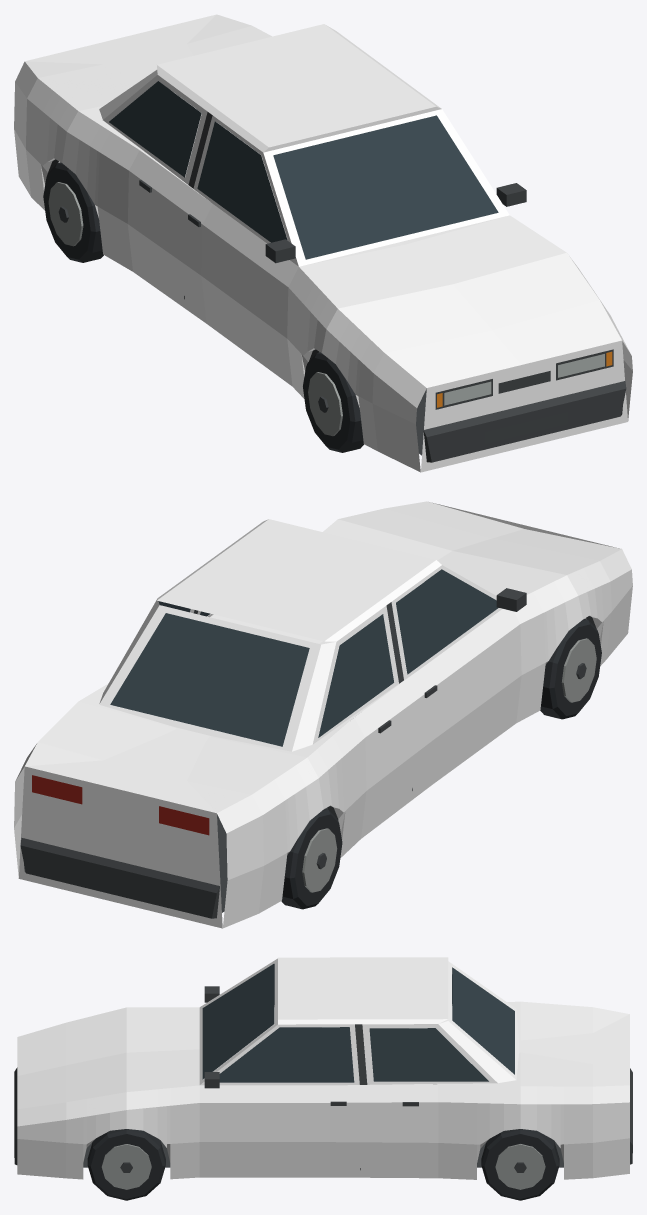
The model's file is kanaya_kazane_s.glb.
3 renders of one model, top to bottom at view 1: azimuth 30°, elevation 25°; view 2: azimuth 150°, elevation 25°; view 3: azimuth 270°, elevation 25°, orthographic. The views are drawn at different scales.
Parts seen in each view (by area): view 1: kanaya_kazane_s; view 2: kanaya_kazane_s; view 3: kanaya_kazane_s.
Part boxes in pixels (x1,y1,x2,y2): kanaya_kazane_s: (14, 14, 632, 472); kanaya_kazane_s: (14, 501, 632, 928); kanaya_kazane_s: (14, 957, 632, 1200).
Bounding box in the file's own units: 1.83 × 1.48 × 4.95.
8 materials, 1 textured.
